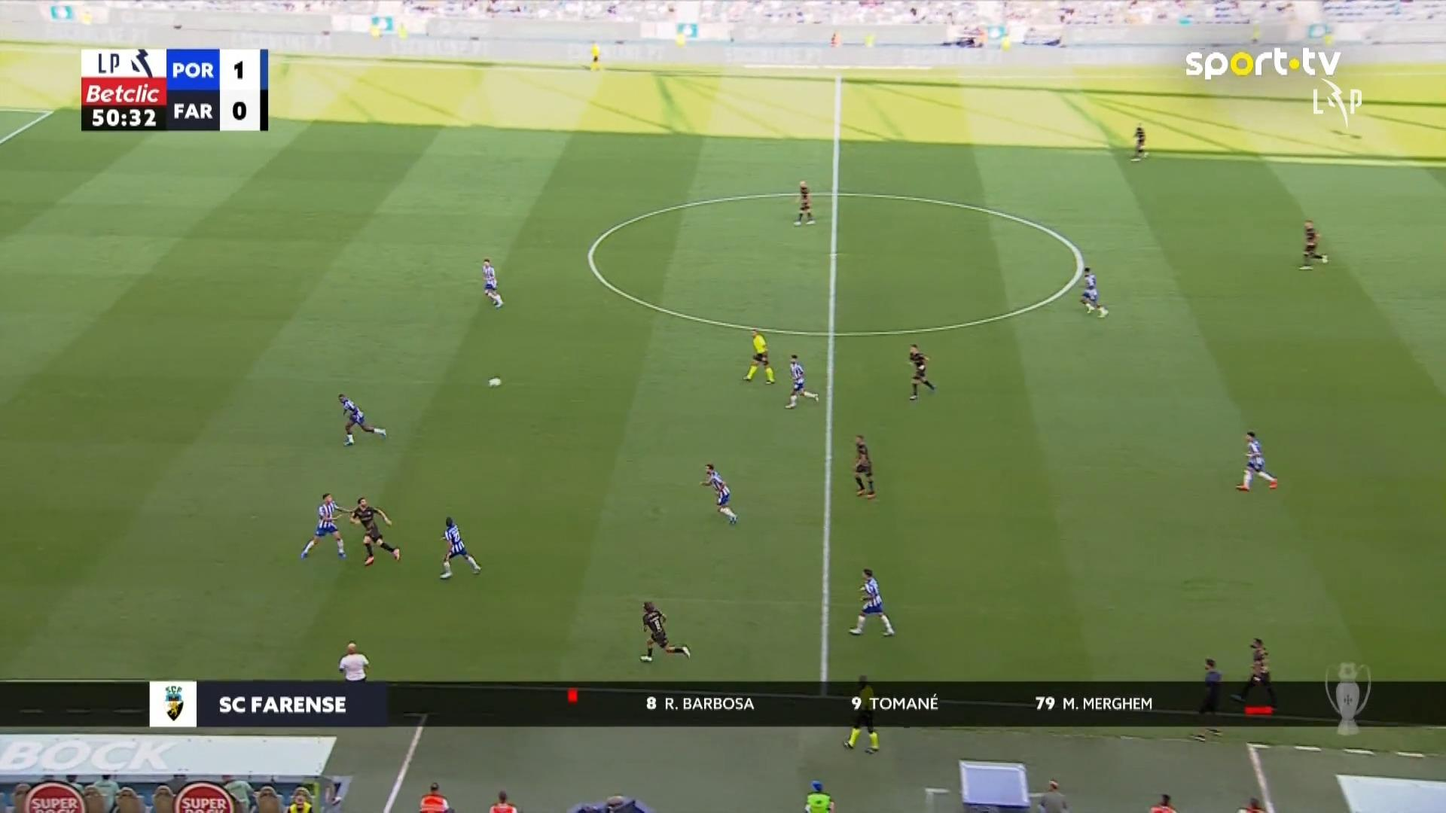ball: (488, 377, 501, 387)
player: (349, 496, 400, 565), (298, 492, 349, 560), (847, 567, 895, 636), (639, 600, 691, 662), (438, 516, 481, 579), (337, 392, 386, 446), (1235, 430, 1278, 490), (700, 462, 737, 525), (784, 353, 819, 409), (907, 343, 935, 400), (1298, 218, 1328, 269), (1079, 266, 1109, 317), (852, 433, 875, 498), (480, 257, 503, 308), (793, 179, 815, 226), (804, 779, 834, 811), (1130, 123, 1149, 161)
referee: (842, 673, 880, 753), (742, 328, 775, 384), (587, 41, 603, 72)
